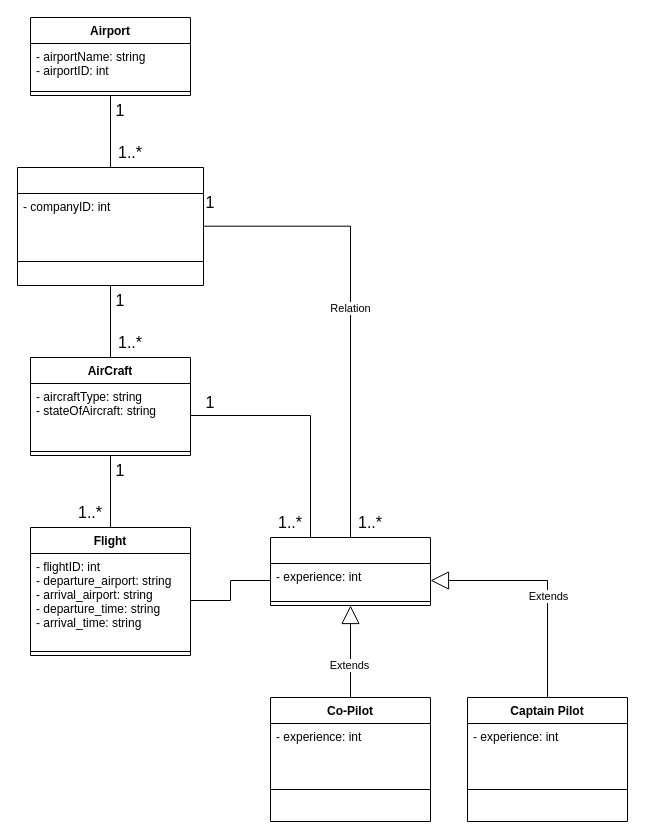
Image size: 645x839. Some labels were removed from this diagram. Each missing label, with the box of its shape:
Airline Company: (16, 166, 204, 286)
Pilot: (270, 536, 430, 606)
